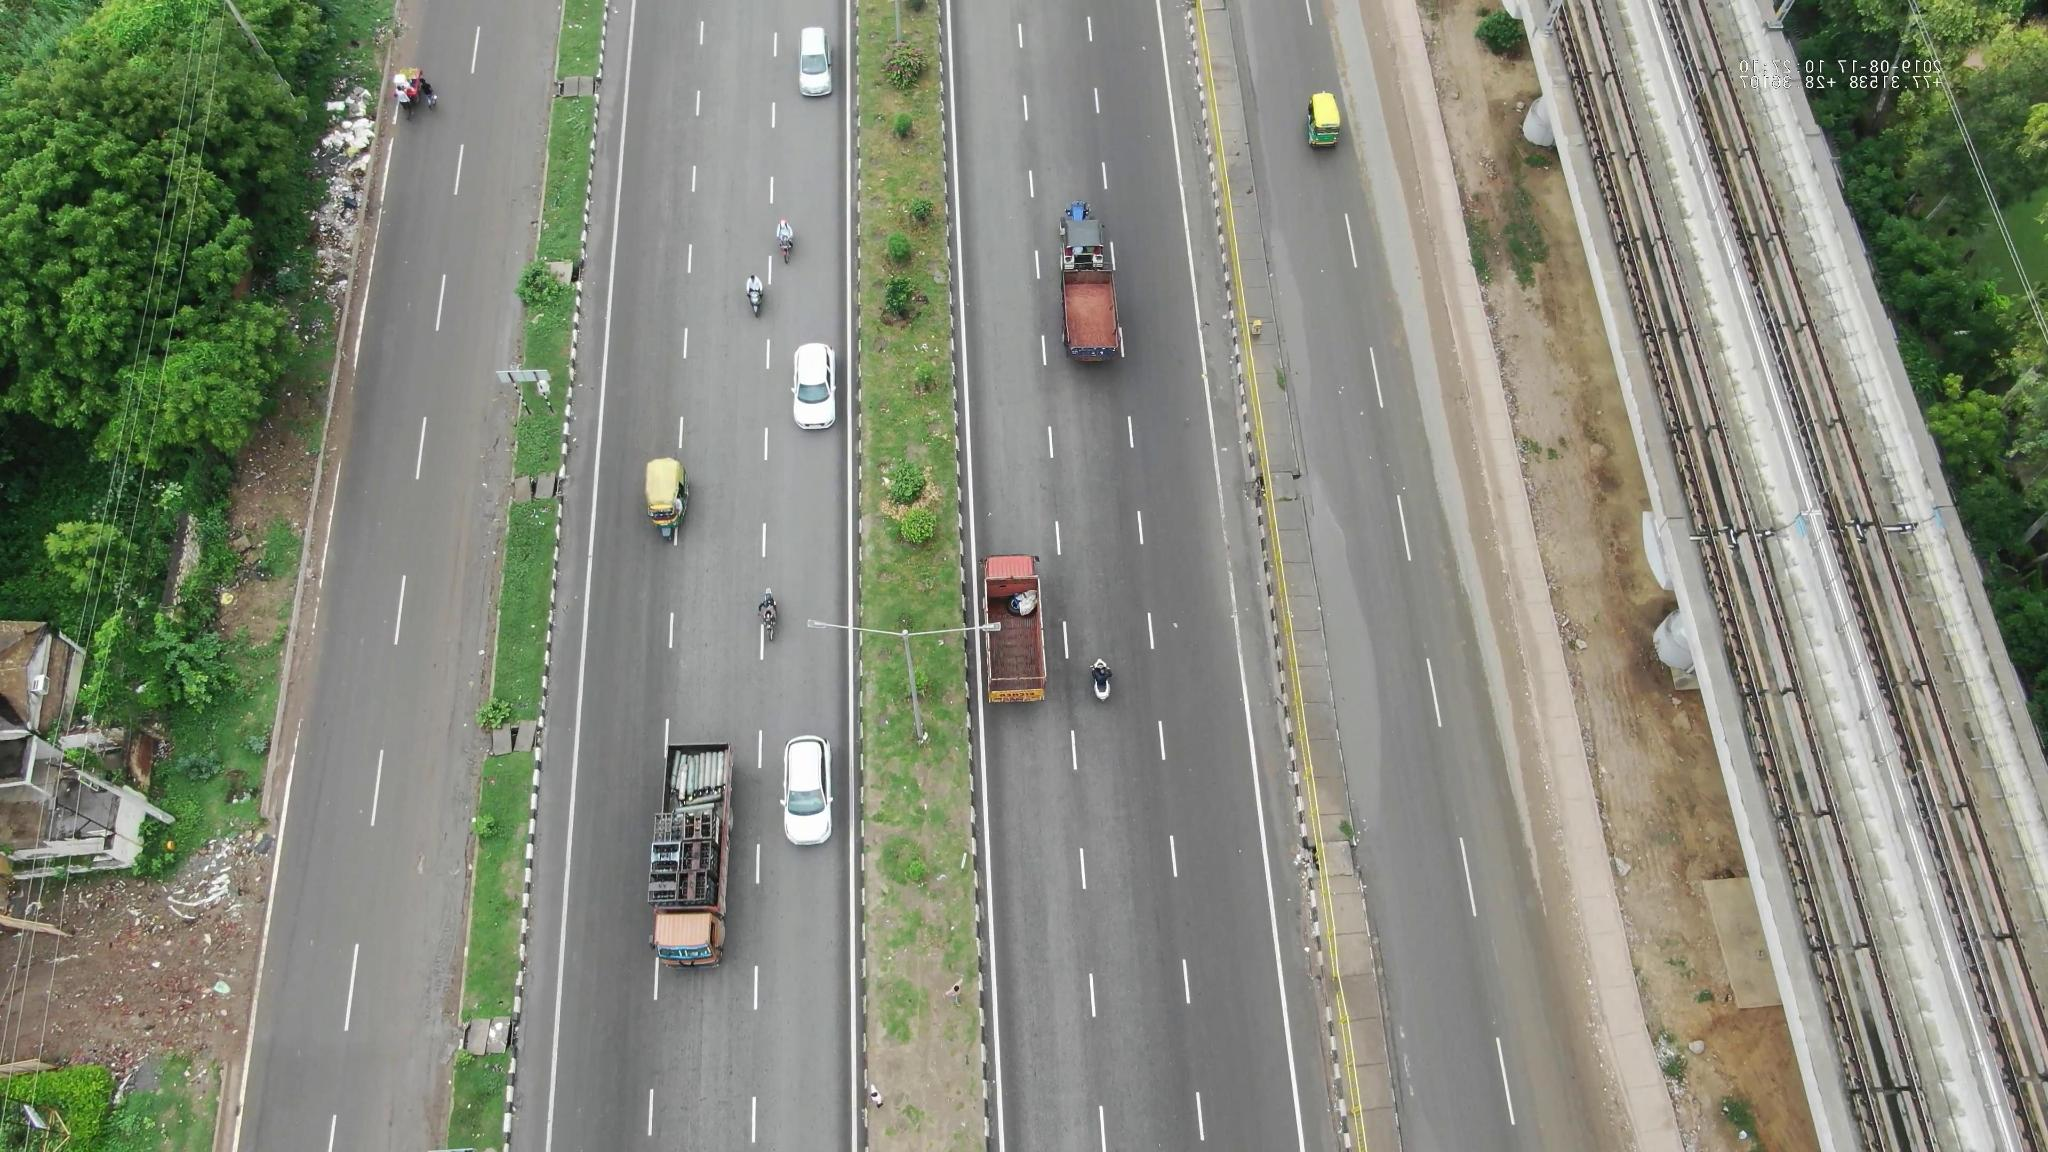Road_side_garbage: (294, 82, 390, 316)
Waterlogging: (1319, 485, 1409, 830), (1265, 233, 1319, 404)
